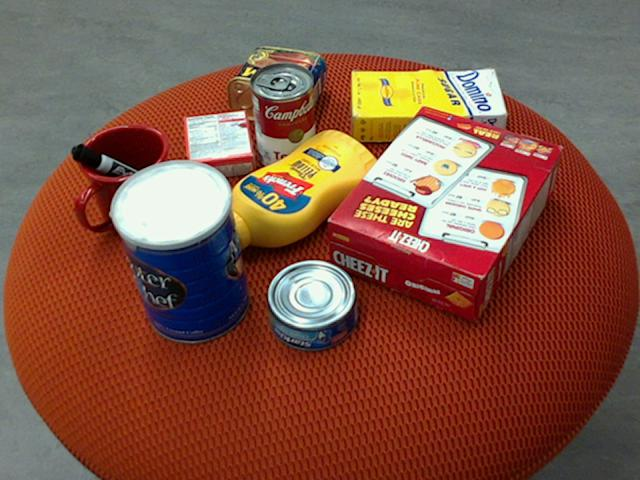cracker_box: (327, 104, 565, 320)
gelatin_box: (183, 108, 254, 181)
large_marker: (70, 143, 172, 202)
master_chef_can: (106, 160, 249, 344)
mug: (76, 123, 176, 233)
mustard_bottle: (207, 129, 382, 250)
potted_meat_can: (228, 46, 327, 126)
sugar_box: (350, 68, 508, 142)
tomato_soup_can: (250, 61, 316, 171)
tuna_fish_can: (267, 260, 359, 351)
